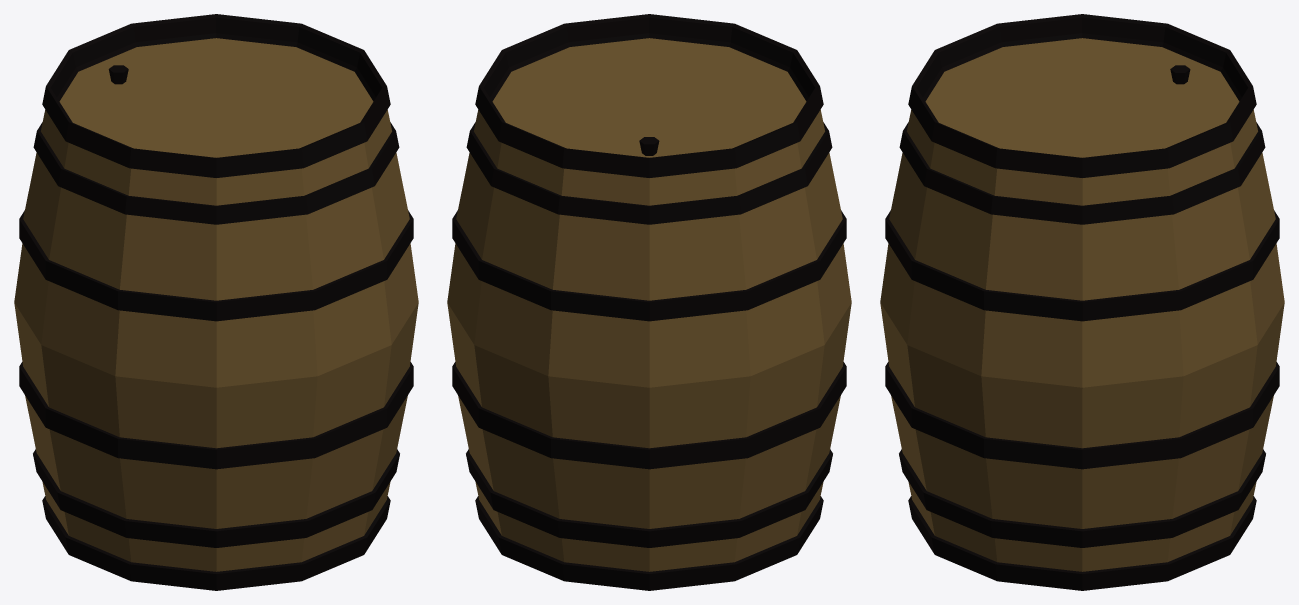
File: Ph_Barrel.fbx
3 renders of one model, left to right at view 1: azimuth 30°, elevation 25°; view 2: azimuth 150°, elevation 25°; view 3: azimuth 270°, elevation 25°, orthographic.
Parts seen in each view (by area): view 1: Barrel; view 2: Barrel; view 3: Barrel.
Boxes of the visible parts, bbox=[...] form: Barrel: bbox=[14, 14, 418, 590]; Barrel: bbox=[447, 14, 851, 590]; Barrel: bbox=[880, 14, 1284, 590].
Bounding box in the file's own units: 84.95 × 100 × 84.95.
